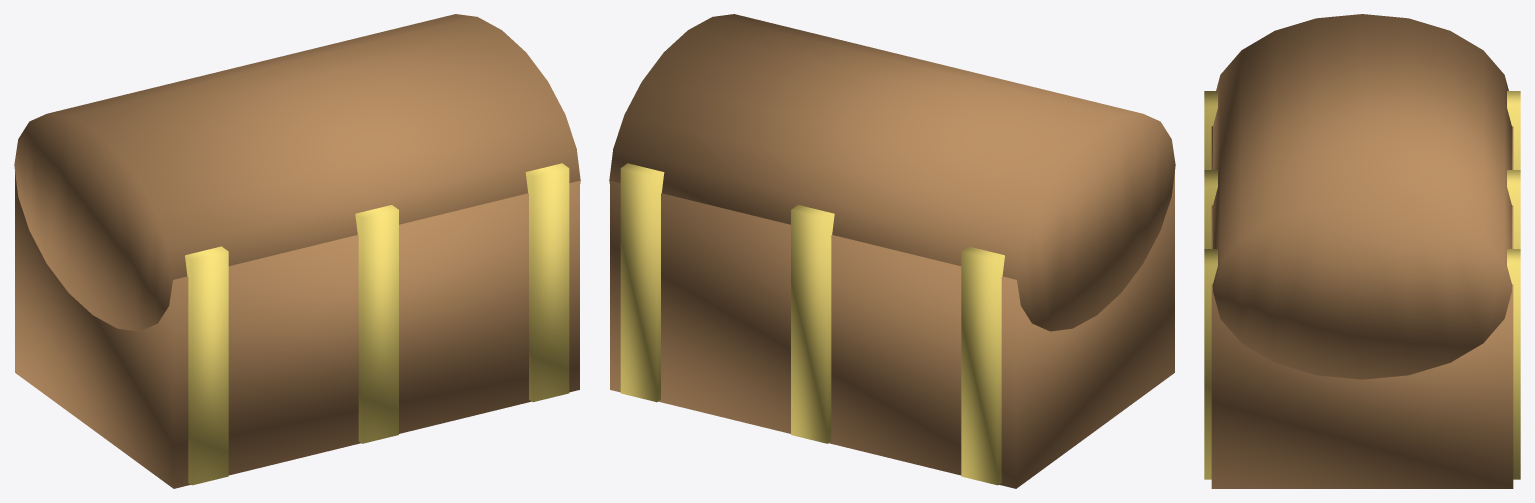
The model's file is SM64_TreasureChest.fbx.
3 views of the same model, side by side, from view 1: azimuth 30°, elevation 25°; view 2: azimuth 150°, elevation 25°; view 3: azimuth 270°, elevation 25° (orthographic). The views are drawn at different scales.
Parts seen in each view (by area): view 1: ChestVaultedLid, ChestBaseMesh, Cube.002, Cube, Cube.001; view 2: ChestVaultedLid, ChestBaseMesh, Cube.002, Cube, Cube.001; view 3: ChestVaultedLid, ChestBaseMesh, Cube.002, Cube, Cube.001.
Boxes of the visible parts, x1=… form: ChestVaultedLid: x1=14, y1=14, x2=580, y2=331; ChestBaseMesh: x1=15, y1=172, x2=579, y2=488; Cube.002: x1=525, y1=163, x2=569, y2=402; Cube: x1=185, y1=246, x2=228, y2=485; Cube.001: x1=355, y1=205, x2=398, y2=443; ChestVaultedLid: x1=609, y1=14, x2=1175, y2=331; ChestBaseMesh: x1=610, y1=172, x2=1174, y2=488; Cube.002: x1=620, y1=163, x2=664, y2=402; Cube: x1=961, y1=246, x2=1004, y2=485; Cube.001: x1=791, y1=205, x2=834, y2=443; ChestVaultedLid: x1=1213, y1=14, x2=1511, y2=379; ChestBaseMesh: x1=1211, y1=126, x2=1513, y2=488; Cube.002: x1=1204, y1=249, x2=1520, y2=479; Cube: x1=1204, y1=91, x2=1520, y2=169; Cube.001: x1=1204, y1=170, x2=1520, y2=248.
Bounding box in the file's own units: 1.56 × 1.1 × 1.1.
